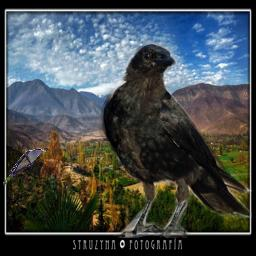Crow: (99, 42, 252, 238)
Cuckoo: (3, 148, 46, 185)
